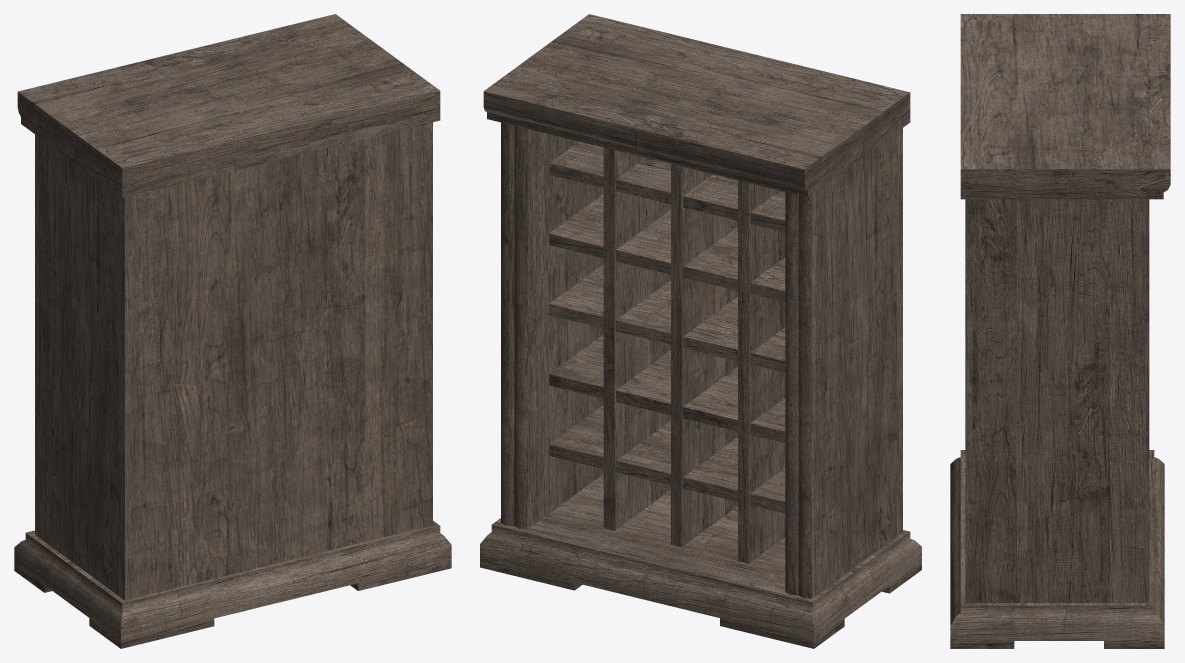
File: mw_mead_rack_02.FBX
The picture shows the model from 3 angles, left to right: view 1: azimuth 30°, elevation 25°; view 2: azimuth 150°, elevation 25°; view 3: azimuth 270°, elevation 25°; orthographic projection.
Parts seen in each view (by area): view 1: mw_mead_rack_02; view 2: mw_mead_rack_02; view 3: mw_mead_rack_02.
Boxes of the visible parts, x1,y1,x2,y2 form: mw_mead_rack_02: [14, 14, 451, 648]; mw_mead_rack_02: [480, 14, 921, 648]; mw_mead_rack_02: [950, 14, 1170, 648].
Bounding box in the file's own units: 128 × 176 × 73.76.
